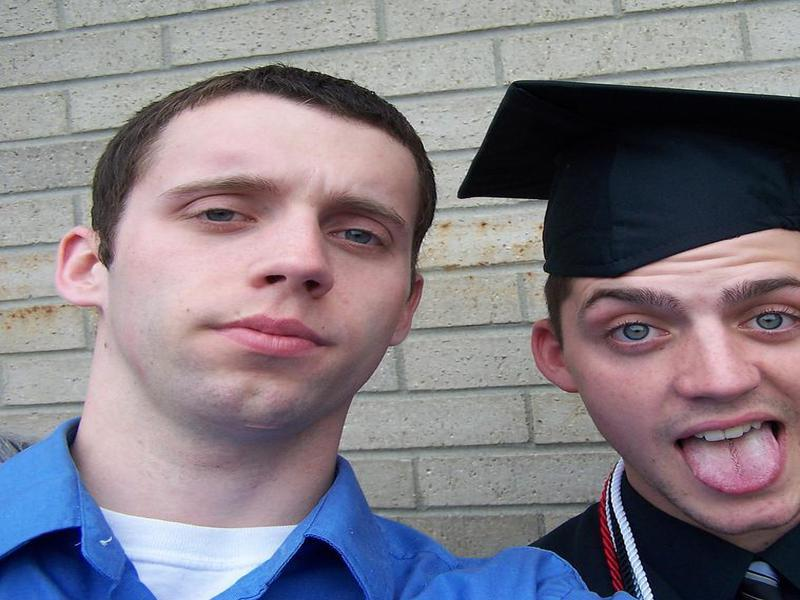person: (33, 62, 570, 600), (473, 73, 796, 600)
